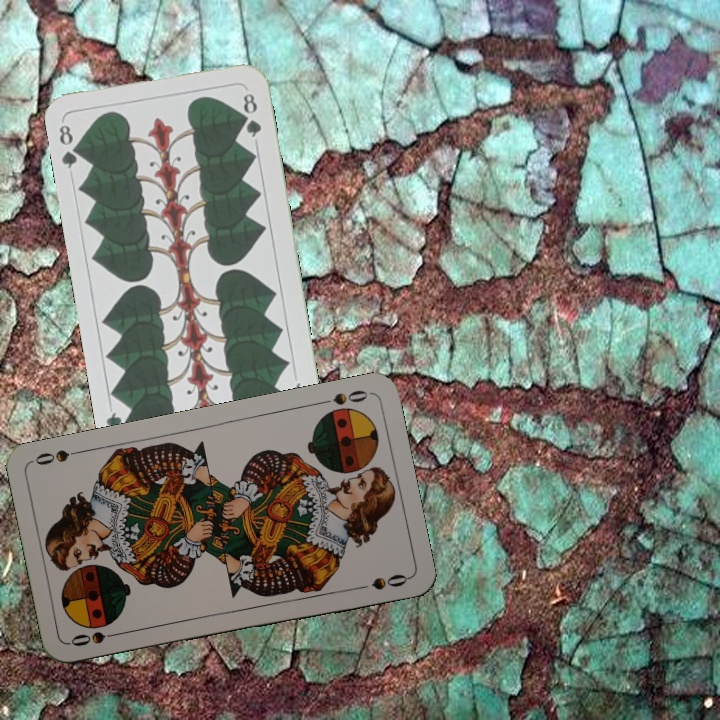G8: (55, 120, 85, 171)
SO: (66, 627, 125, 649), (314, 386, 373, 408)
